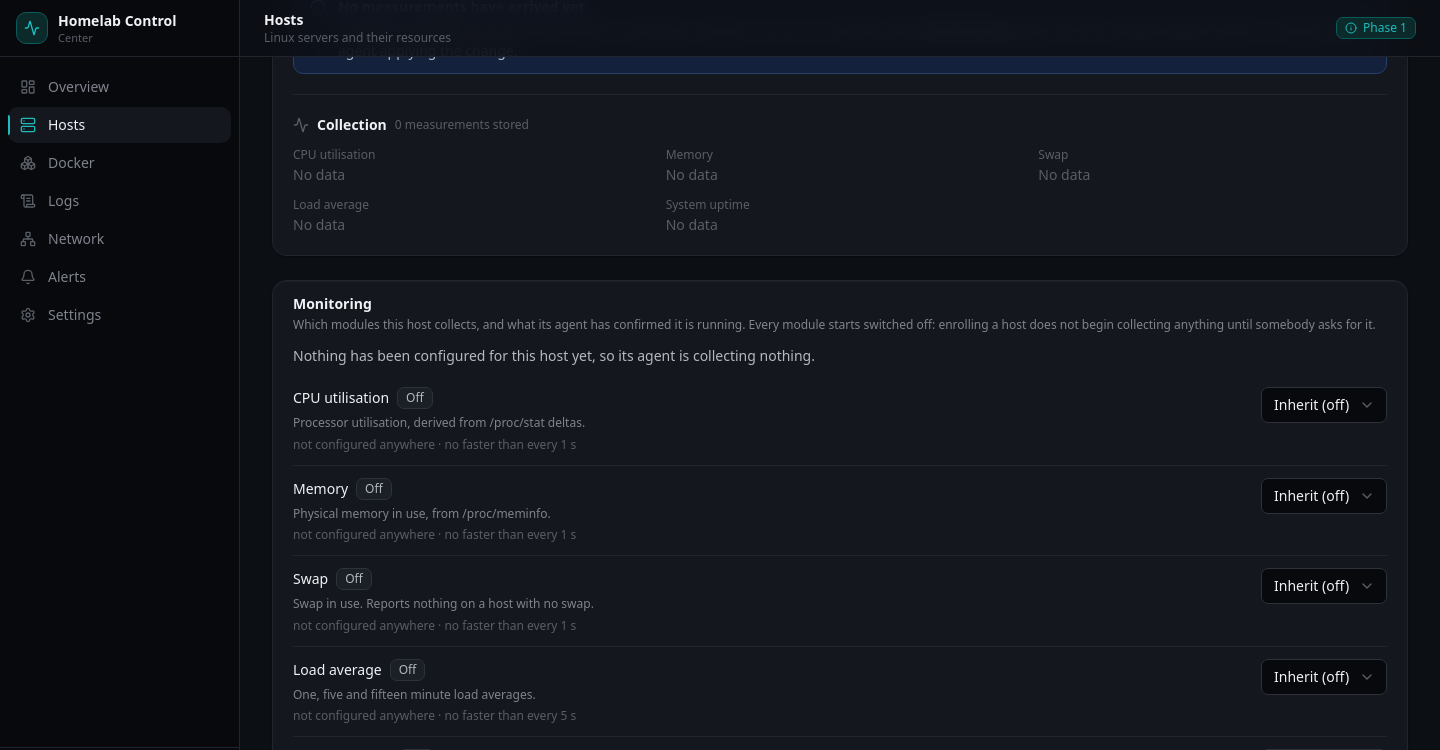
Test case: every control saves, and a refusal is shown › surfaces the server refusing, rather than appearing to succeed
(page scrolled)
expect the heading "Monitoring" is shown: met, box x1=293 y1=294 x2=372 y2=312
Select "On" in the 1st dropdown named "CPU utilisation collection" at (1324, 405), box x1=1261 y1=387 x2=1387 y2=423
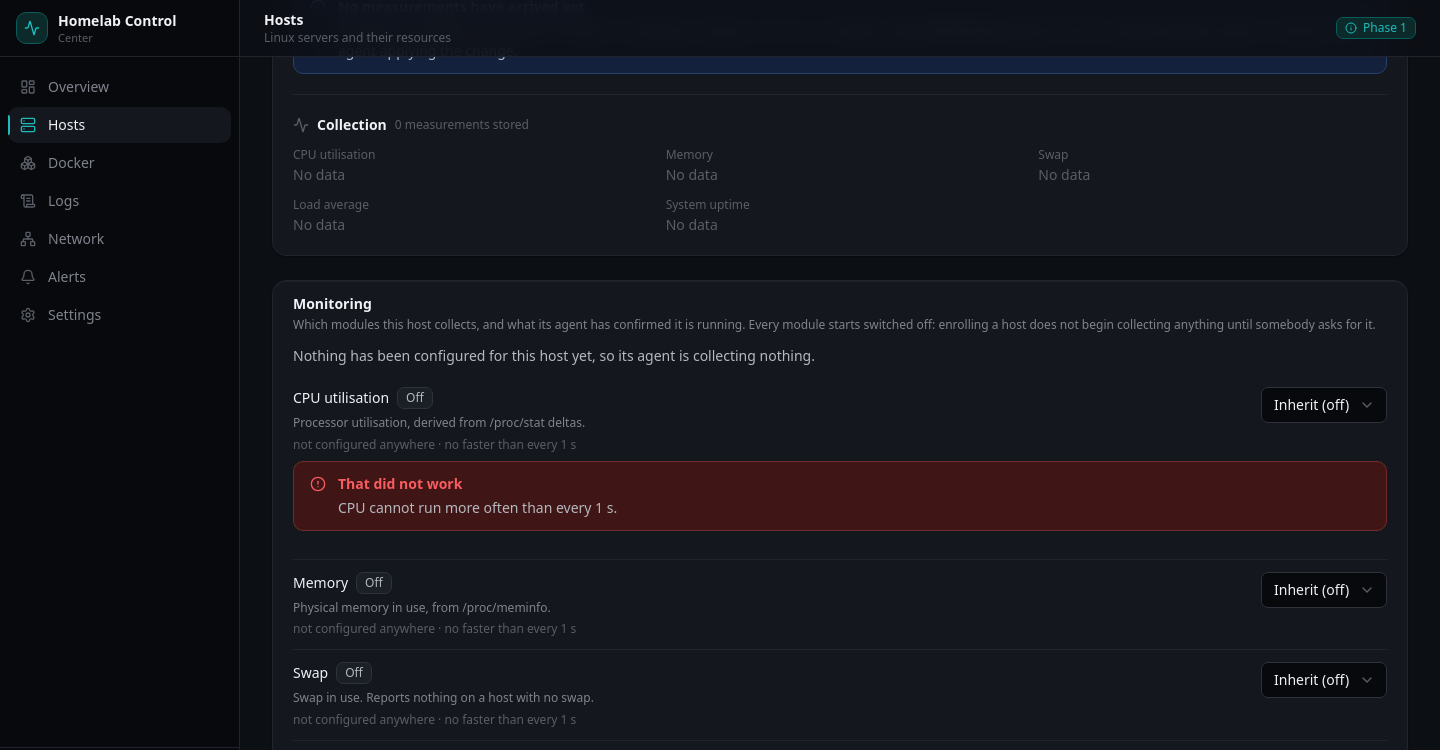
expect the text "CPU cannot run more often than every 1 s." is shown: met, box x1=338 y1=498 x2=617 y2=517
